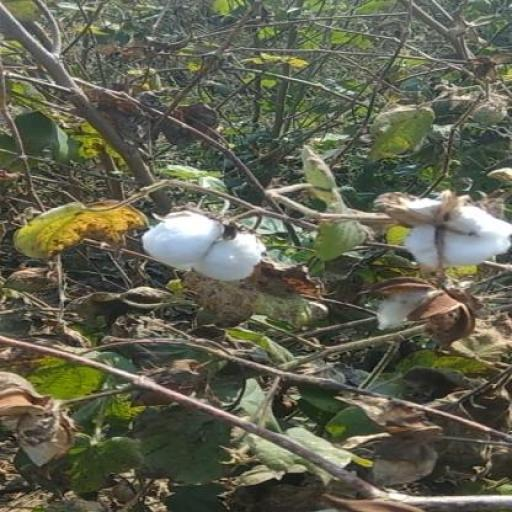cotton_ready: (138, 204, 284, 286), (392, 192, 508, 276)
